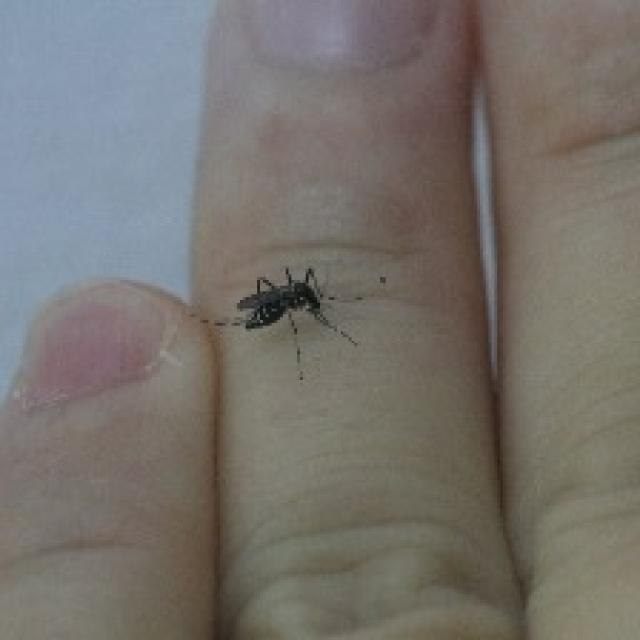aedes: (208, 263, 363, 383)
